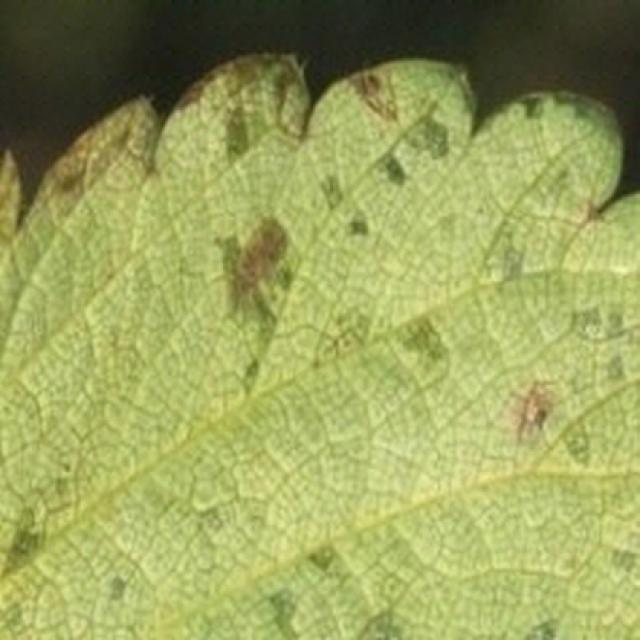Angular Leafspot: (0, 52, 638, 638)
